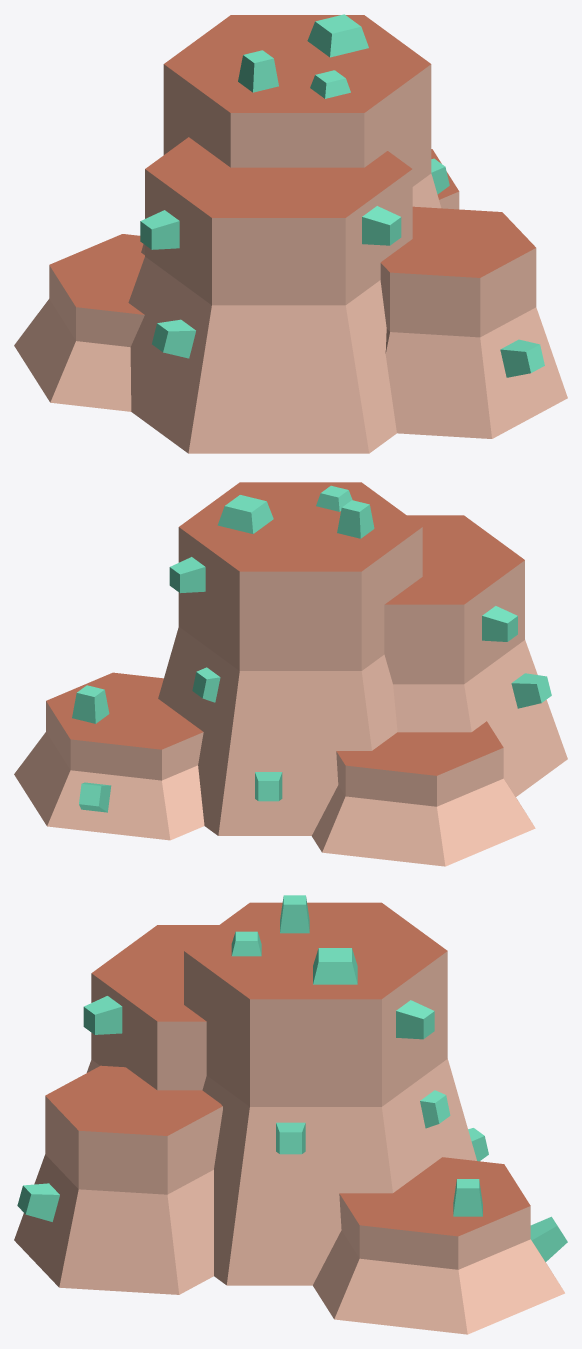
Rendered from rock_crystalsLargeB.glb.
The picture shows the model from 3 angles, top to bottom: view 1: azimuth 30°, elevation 25°; view 2: azimuth 150°, elevation 25°; view 3: azimuth 270°, elevation 25°; orthographic projection. The views are drawn at different scales.
Visible parts, largest first — view 1: rock_crystalsLargeB; view 2: rock_crystalsLargeB; view 3: rock_crystalsLargeB.
Part boxes in pixels (bbox=[...]): rock_crystalsLargeB: bbox=[14, 14, 567, 453]; rock_crystalsLargeB: bbox=[14, 482, 567, 866]; rock_crystalsLargeB: bbox=[14, 895, 567, 1334].
Bounding box in the file's own units: 1.32 × 0.7722 × 1.31.
